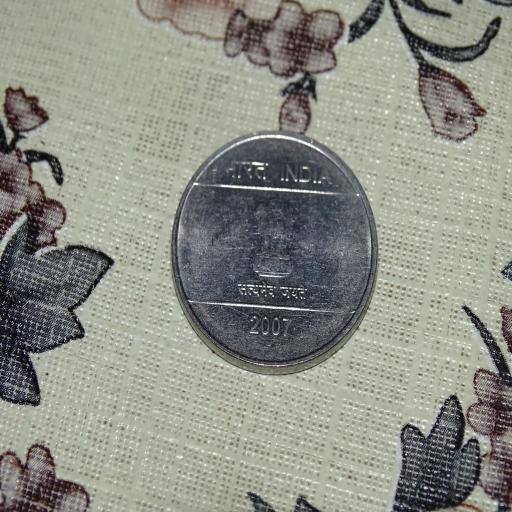rupee1: (171, 135, 378, 372)
